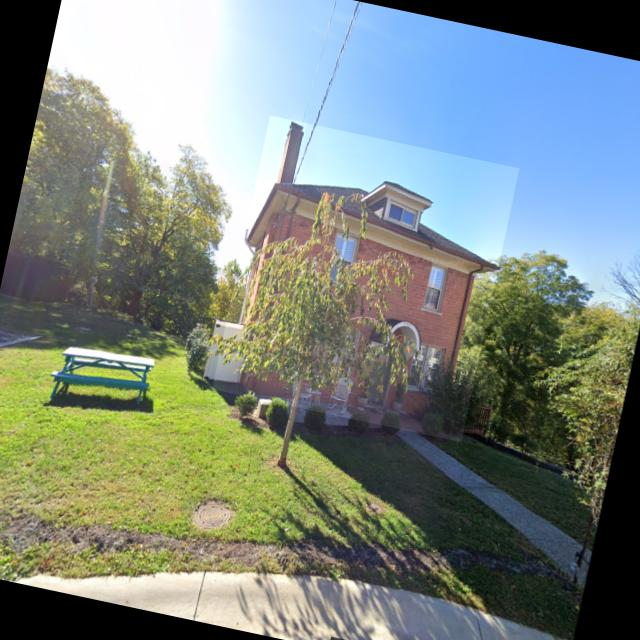House: (211, 115, 519, 442)
